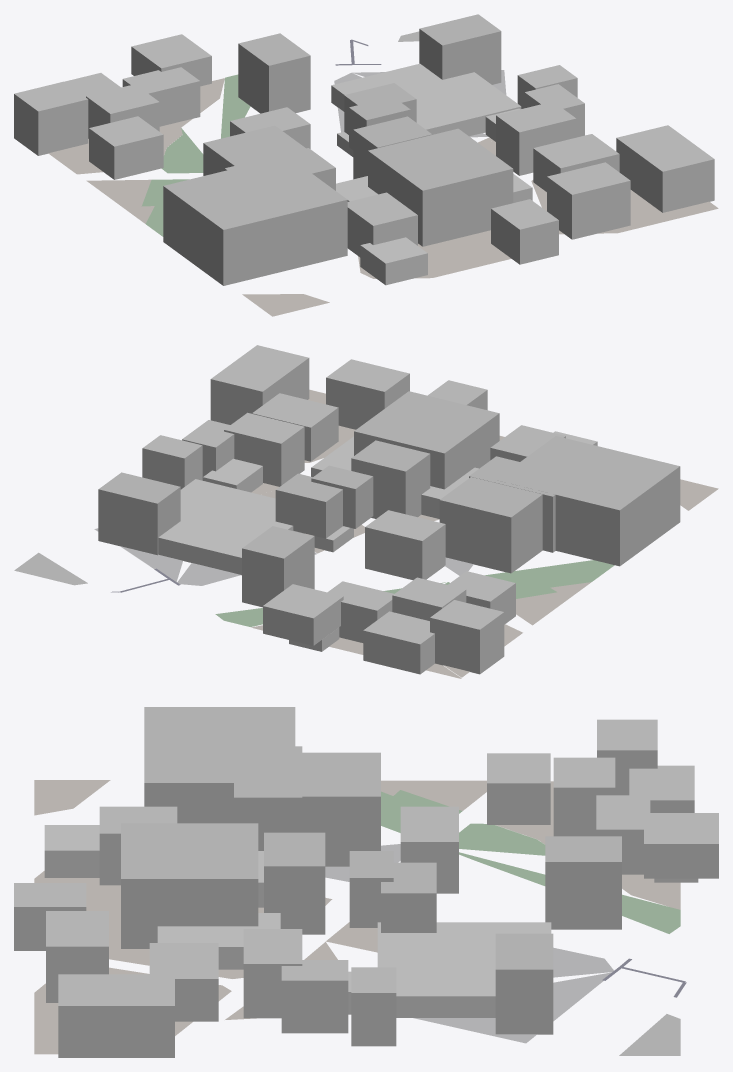
Rendered from 103_93_mid.glb.
3 views of the same model, one above another, from view 1: azimuth 30°, elevation 25°; view 2: azimuth 150°, elevation 25°; view 3: azimuth 270°, elevation 25° (orthographic). The views are drawn at different scales.
Bounding box in the file's own units: 517 × 61.97 × 545.
